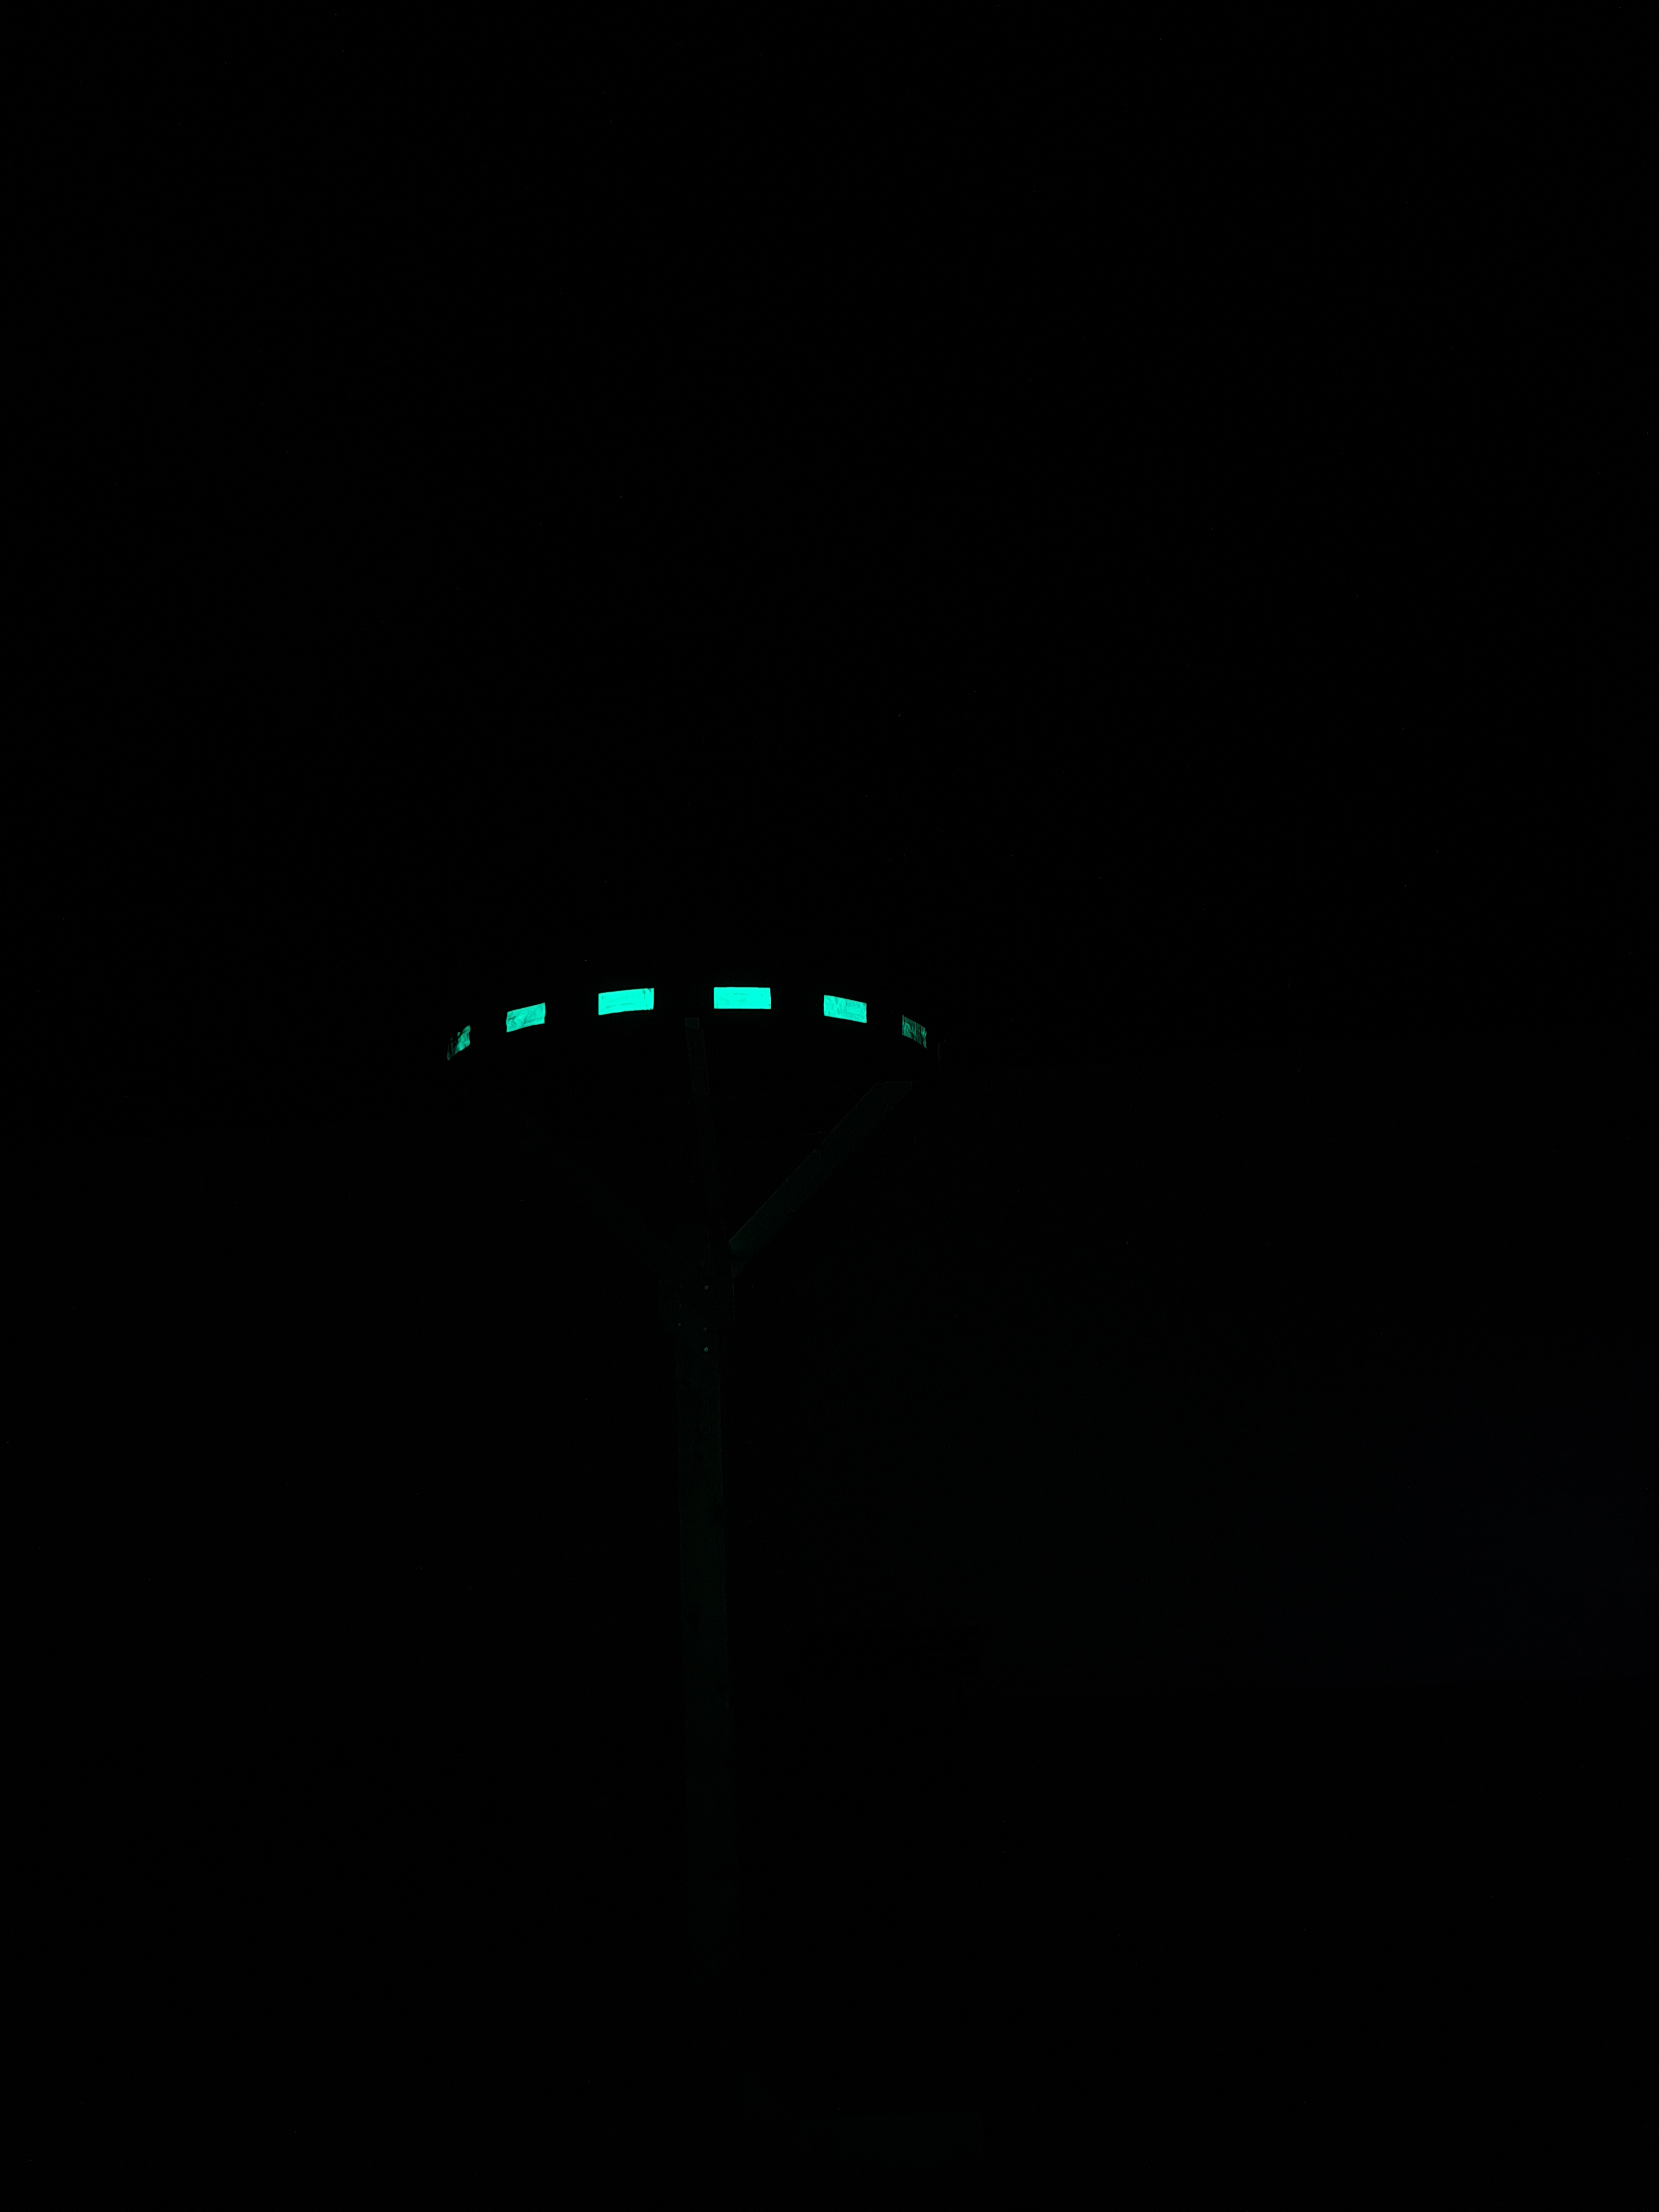hoop: (451, 979, 932, 1073)
